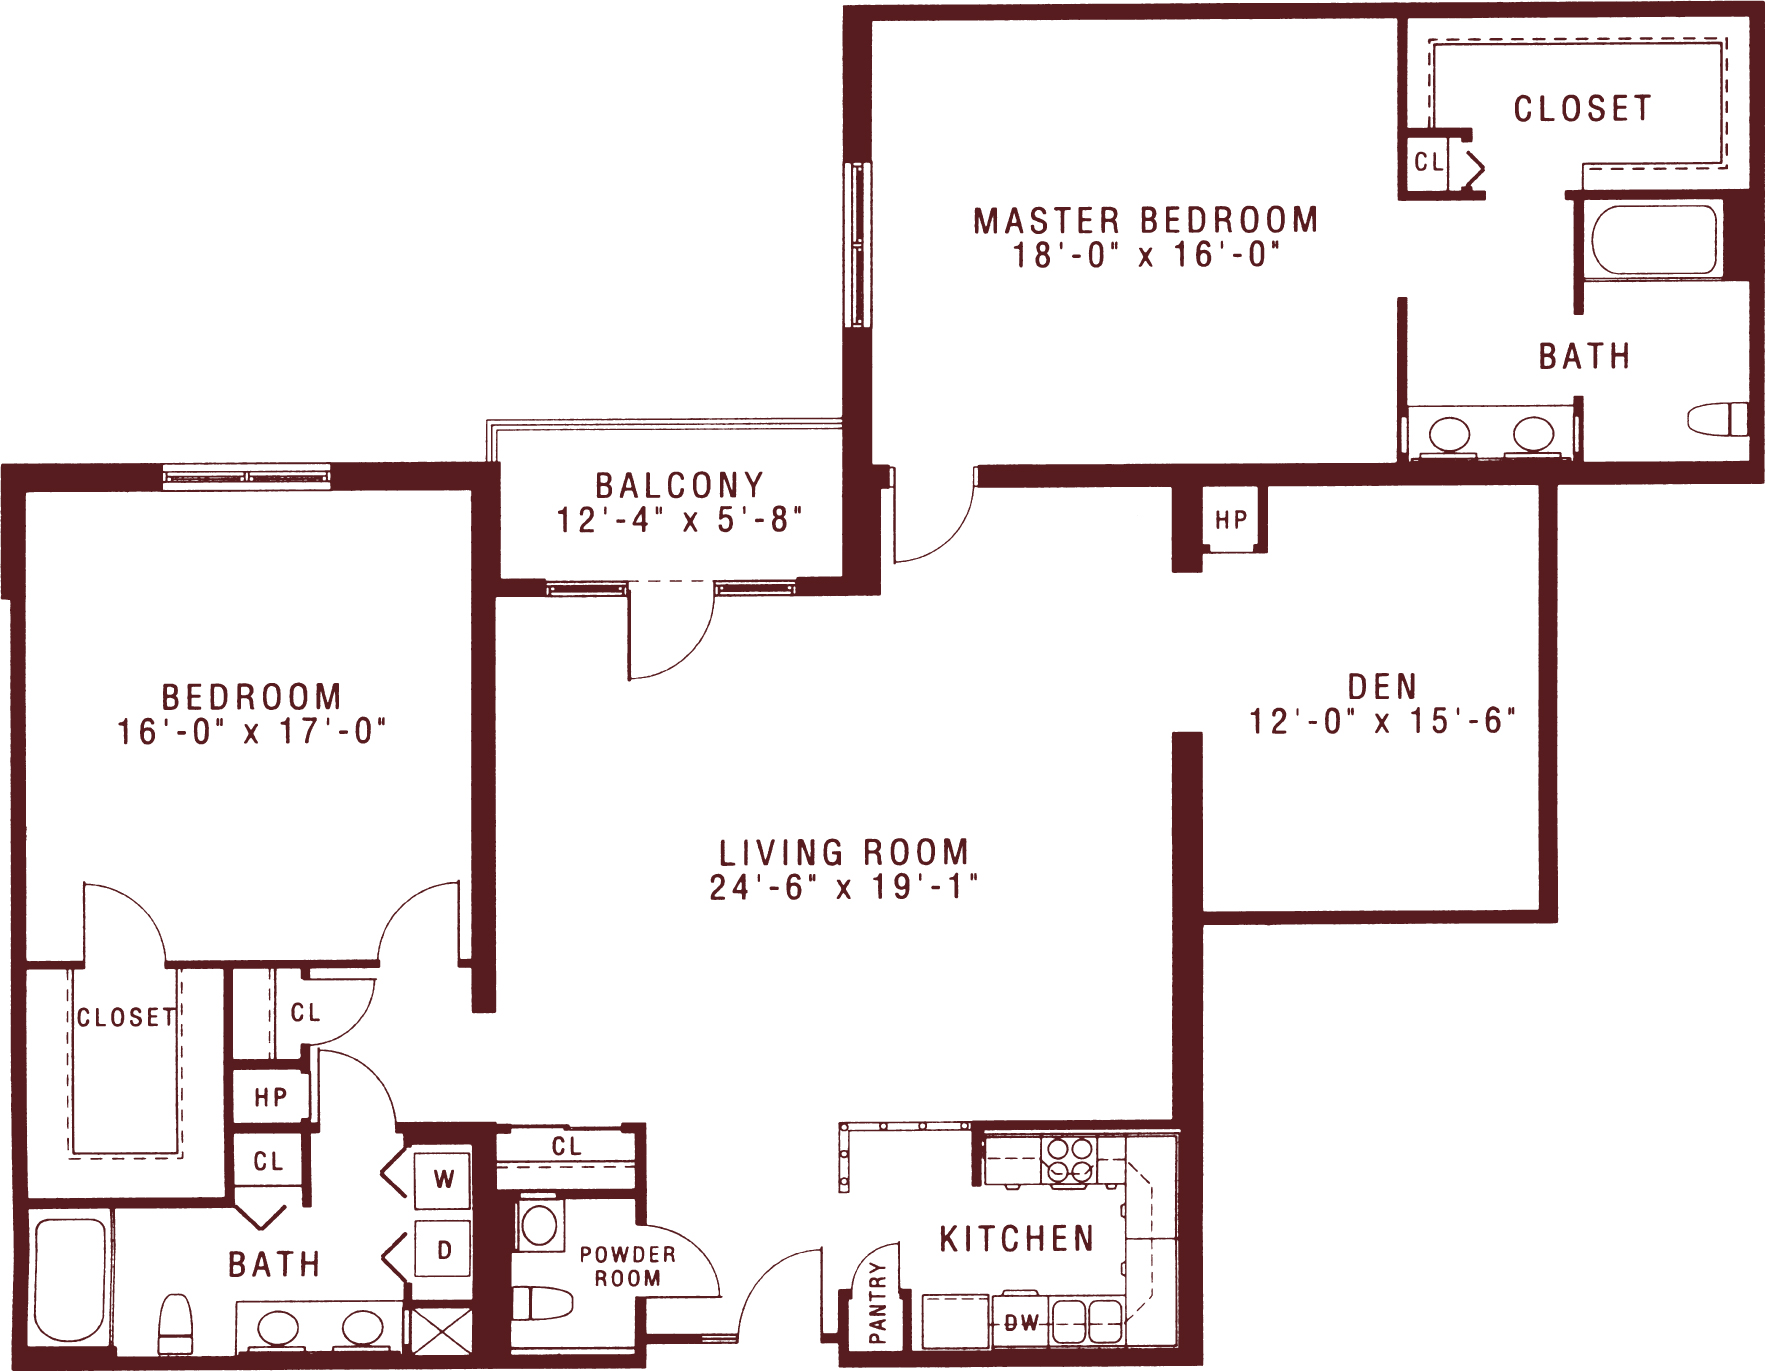room: (4, 463, 499, 1370), (476, 573, 1212, 1130), (842, 7, 1414, 483), (1170, 466, 1562, 923), (494, 1125, 1212, 1371), (1400, 4, 1765, 474), (860, 1122, 1203, 1371), (40, 1216, 468, 1357)
